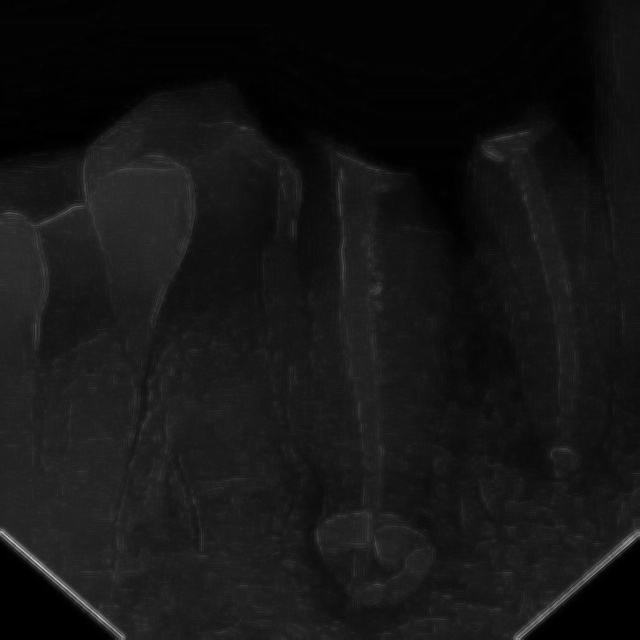Class 1- complete endodontic treatment: (243, 132, 495, 625)
